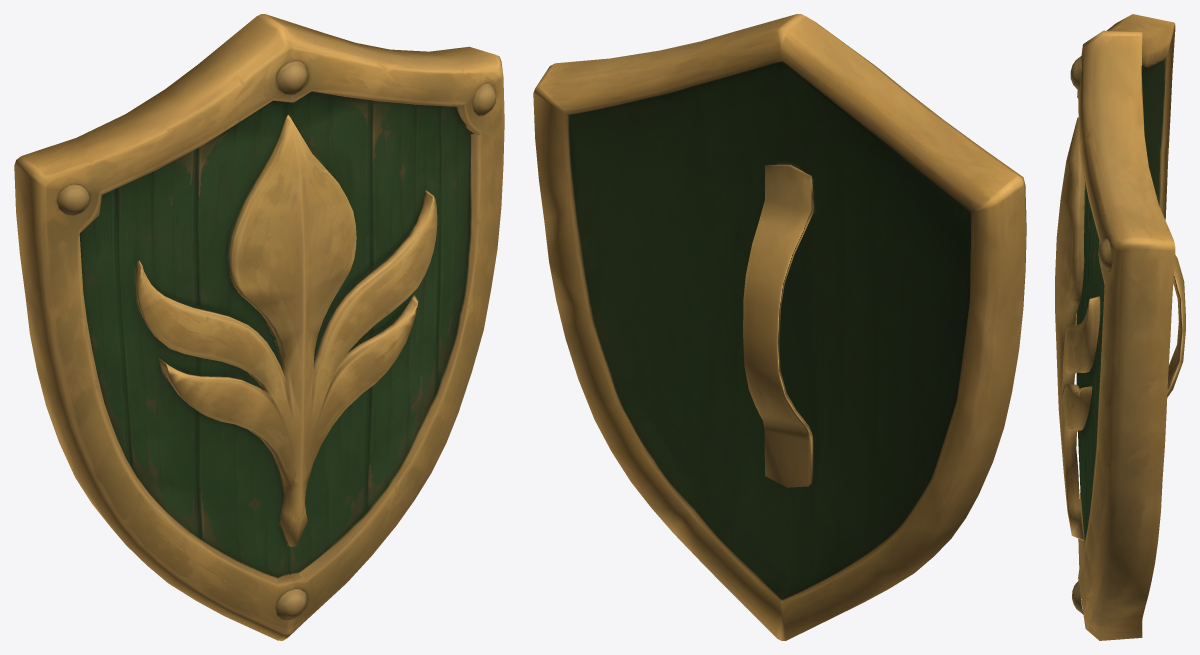
Rendered from elf-fighter-shield-p2-quad-textured-v1.glb.
3 renders of one model, left to right at view 1: azimuth 30°, elevation 25°; view 2: azimuth 150°, elevation 25°; view 3: azimuth 270°, elevation 25°, orthographic.
Parts seen in each view (by area): view 1: tripo_9fba520d_def3_48dd_b59f_034ef2befa52; view 2: tripo_9fba520d_def3_48dd_b59f_034ef2befa52; view 3: tripo_9fba520d_def3_48dd_b59f_034ef2befa52.
Part boxes in pixels (x1,y1,x2,y2): tripo_9fba520d_def3_48dd_b59f_034ef2befa52: [14, 14, 504, 640]; tripo_9fba520d_def3_48dd_b59f_034ef2befa52: [533, 14, 1026, 640]; tripo_9fba520d_def3_48dd_b59f_034ef2befa52: [1055, 14, 1185, 640].
Bounding box in the file's own units: 0.8071 × 0.9995 × 0.1948.
Materials: 1 (1 with a texture image).
